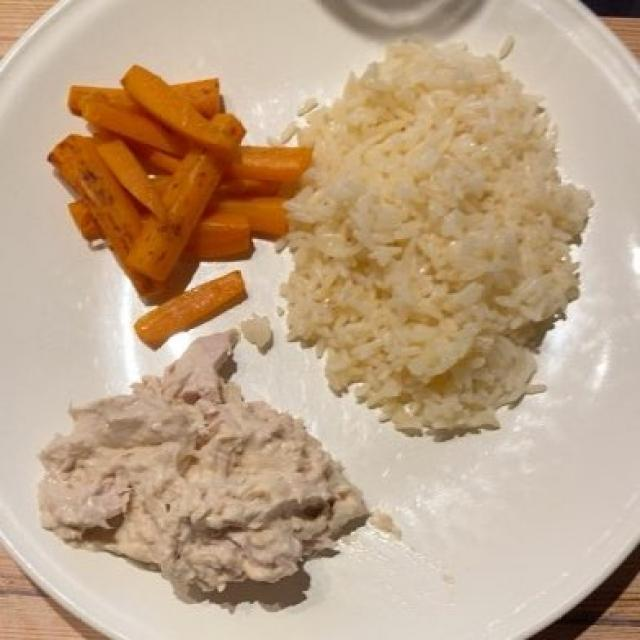carrot: (55, 73, 301, 317)
rice: (291, 50, 582, 428)
